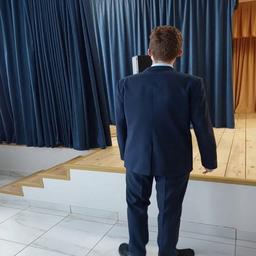person: (116, 26, 219, 255)
